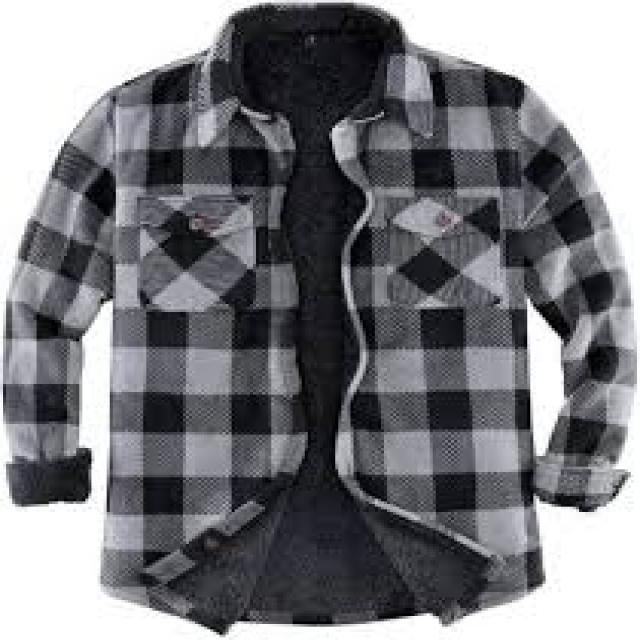plaid: (3, 1, 628, 631)
